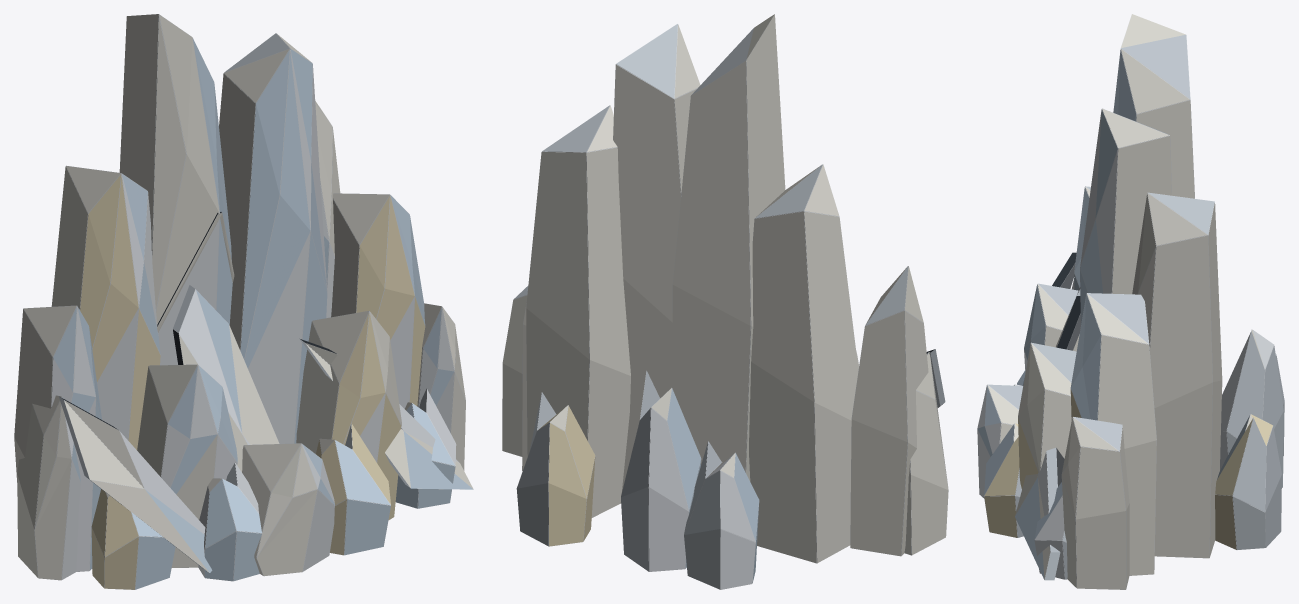
The model's file is projection-finish-v2-crystals.glb.
3 views of the same model, side by side, from view 1: azimuth 30°, elevation 25°; view 2: azimuth 150°, elevation 25°; view 3: azimuth 270°, elevation 25° (orthographic). The views are drawn at different scales.
Visible parts, largest first — view 1: Projection Crystals | ivory sculpted return, Projection Crystals | white projected sculpted facade | pale, Projection Crystals | white projected sculpted facade, Projection Crystals | mapped amber primary facet, Projection Crystals | crystal brushed silver facet, Projection Crystals | dark crystal recessed joint; view 2: Projection Crystals | ivory sculpted return, Projection Crystals | crystal brushed silver facet, Projection Crystals | white projected sculpted facade, Projection Crystals | mapped amber primary facet, Projection Crystals | white projected sculpted facade | pale; view 3: Projection Crystals | ivory sculpted return, Projection Crystals | crystal brushed silver facet, Projection Crystals | white projected sculpted facade, Projection Crystals | white projected sculpted facade | pale, Projection Crystals | mapped amber primary facet, Projection Crystals | dark crystal recessed joint.
Boxes of the visible parts, <box> form: Projection Crystals | ivory sculpted return: <box>14,14,472,580</box>; Projection Crystals | white projected sculpted facade | pale: <box>53,39,473,589</box>; Projection Crystals | white projected sculpted facade: <box>23,14,472,589</box>; Projection Crystals | mapped amber primary facet: <box>80,174,425,589</box>; Projection Crystals | crystal brushed silver facet: <box>59,33,426,488</box>; Projection Crystals | dark crystal recessed joint: <box>59,212,336,568</box>; Projection Crystals | ivory sculpted return: <box>502,14,948,563</box>; Projection Crystals | crystal brushed silver facet: <box>514,24,945,589</box>; Projection Crystals | white projected sculpted facade: <box>502,14,948,589</box>; Projection Crystals | mapped amber primary facet: <box>538,405,595,546</box>; Projection Crystals | white projected sculpted facade | pale: <box>667,388,759,582</box>; Projection Crystals | ivory sculpted return: <box>987,14,1264,589</box>; Projection Crystals | crystal brushed silver facet: <box>988,34,1284,580</box>; Projection Crystals | white projected sculpted facade: <box>977,14,1276,589</box>; Projection Crystals | white projected sculpted facade | pale: <box>977,50,1249,579</box>; Projection Crystals | mapped amber primary facet: <box>984,389,1272,549</box>; Projection Crystals | dark crystal recessed joint: <box>1052,252,1080,349</box>.
Size of the model in its own units: 7.42 by 8.46 by 5.18.
